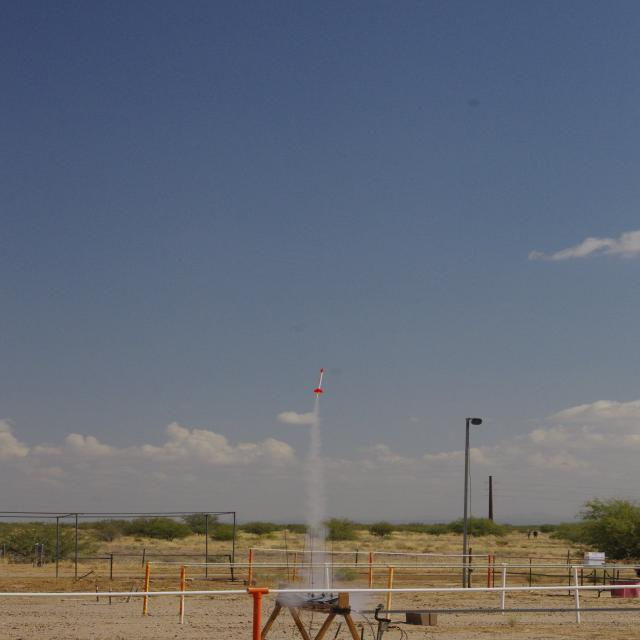Rocket: (314, 368, 324, 393)
